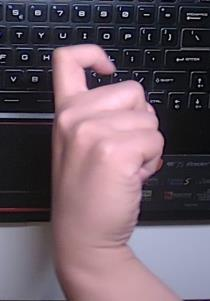anticlockwise: (42, 41, 166, 240)
